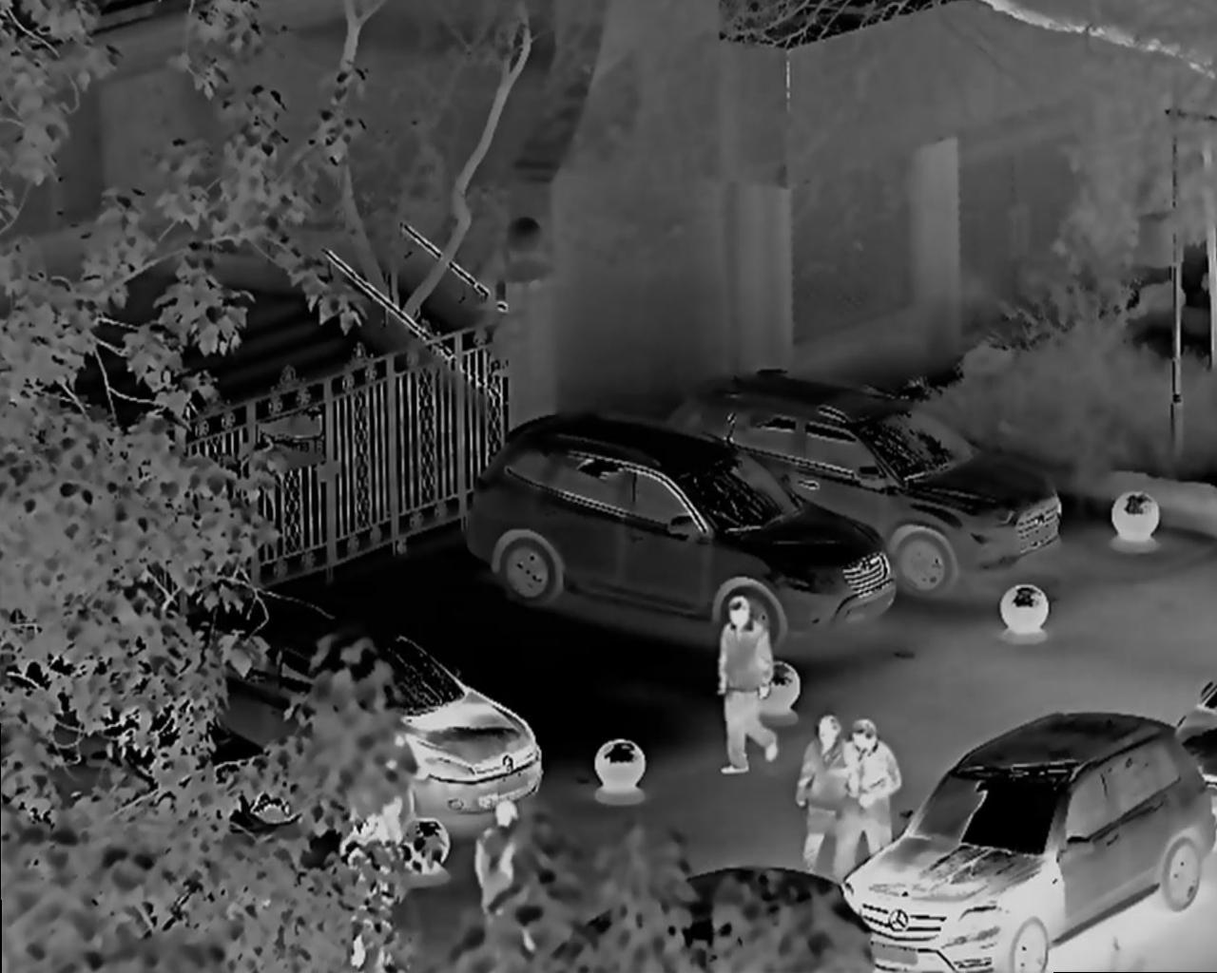person: (713, 599, 793, 781), (469, 807, 559, 958), (848, 720, 907, 875), (802, 711, 842, 862)
